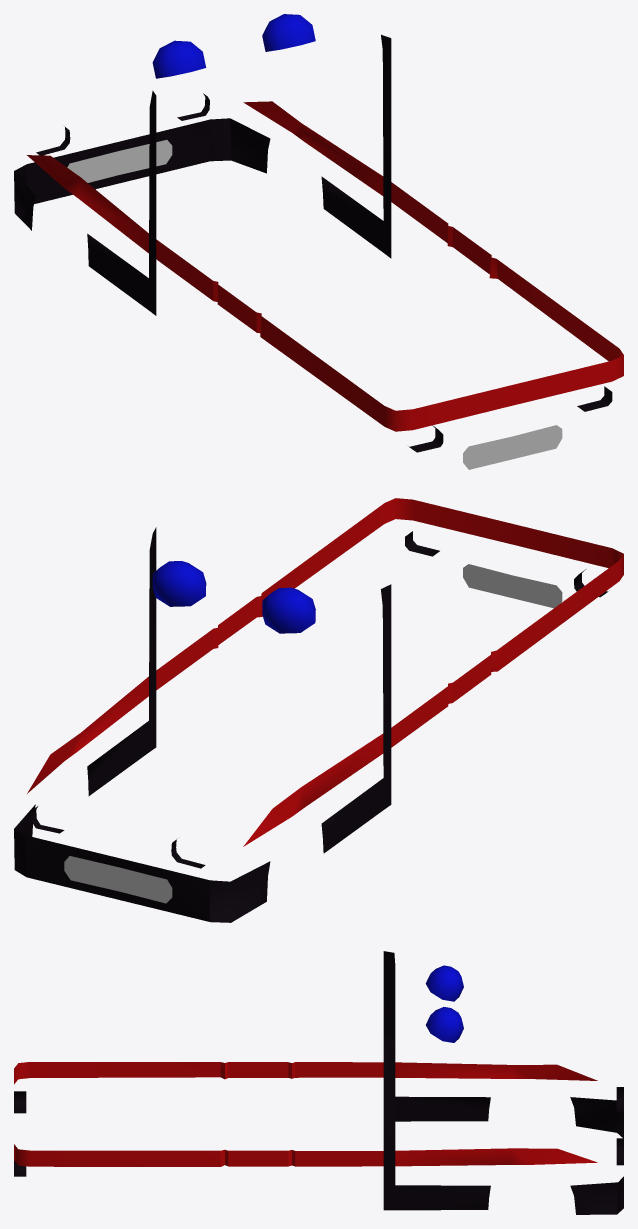
File: ambulance0_misc.obj
The picture shows the model from 3 angles, top to bottom: view 1: azimuth 30°, elevation 25°; view 2: azimuth 150°, elevation 25°; view 3: azimuth 270°, elevation 25°; orthographic projection. The views are drawn at different scales.
Parts seen in each view (by area): view 1: Chassis_Red_Chassis_Red, Chassis_Black_Chassis_Black, Plastic_White, Siren; view 2: Chassis_Red_Chassis_Red, Chassis_Black_Chassis_Black, Plastic_White, Siren; view 3: Chassis_Red_Chassis_Red, Chassis_Black_Chassis_Black, Siren.
Part boxes in pixels (left/top/right/bottom): Chassis_Red_Chassis_Red: left=27, top=101, right=623, bottom=431; Chassis_Black_Chassis_Black: left=14, top=34, right=612, bottom=452; Plastic_White: left=67, top=140, right=562, bottom=469; Siren: left=152, top=14, right=315, bottom=78; Chassis_Red_Chassis_Red: left=27, top=498, right=623, bottom=846; Chassis_Black_Chassis_Black: left=14, top=527, right=608, bottom=922; Plastic_White: left=64, top=564, right=562, bottom=903; Siren: left=152, top=561, right=315, bottom=633; Chassis_Red_Chassis_Red: left=14, top=1062, right=597, bottom=1166; Chassis_Black_Chassis_Black: left=14, top=951, right=623, bottom=1214; Siren: left=425, top=965, right=463, bottom=1042.
Bounding box in the file's own units: 0.8647 × 0.83 × 2.48.
